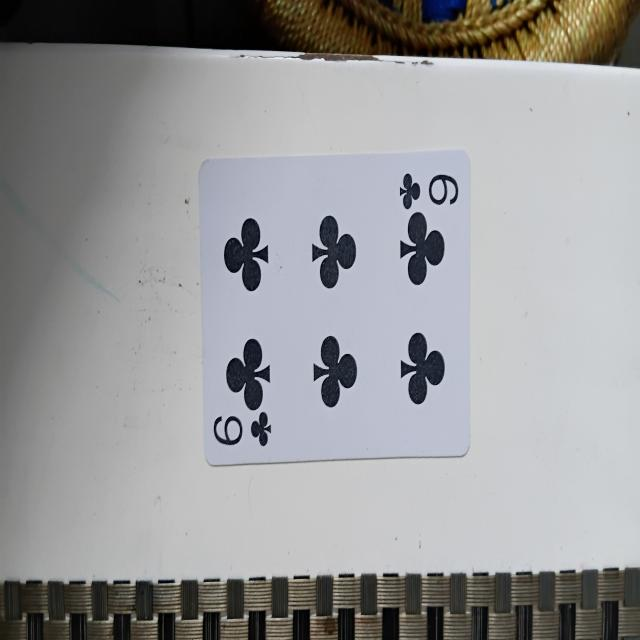6C: (197, 150, 467, 456)
